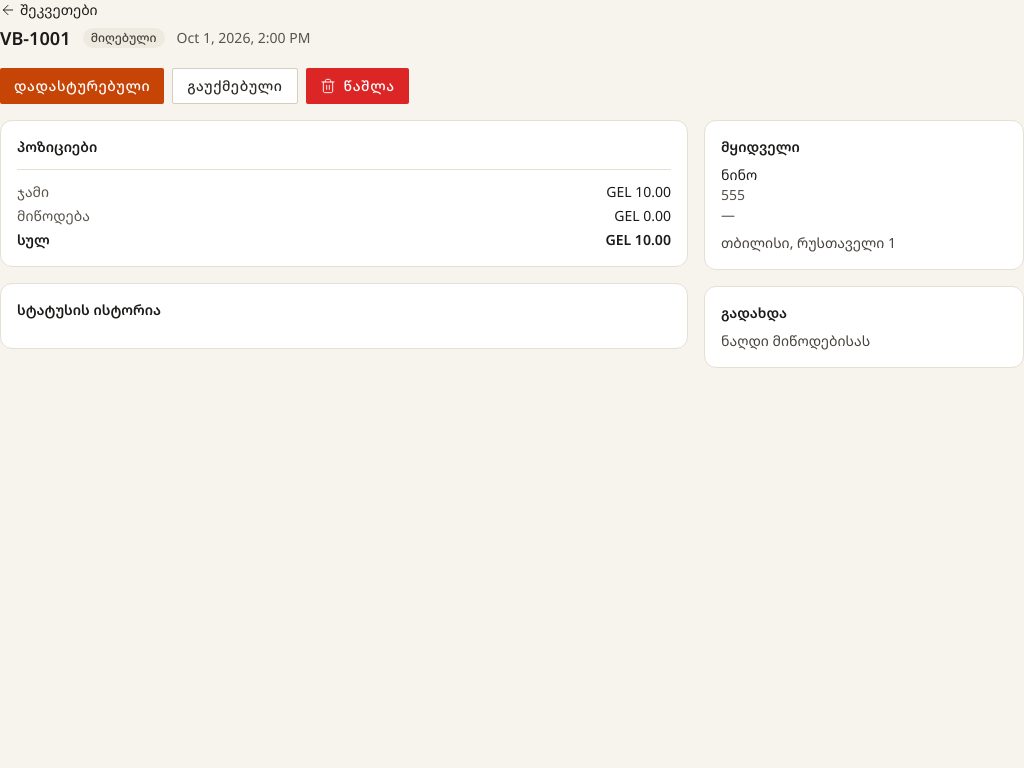
OrderDetail move to trash › warns that the units stay reserved for a pending order
Click the button "წაშლა" at coordinates (357, 86), box [306,68,409,104]
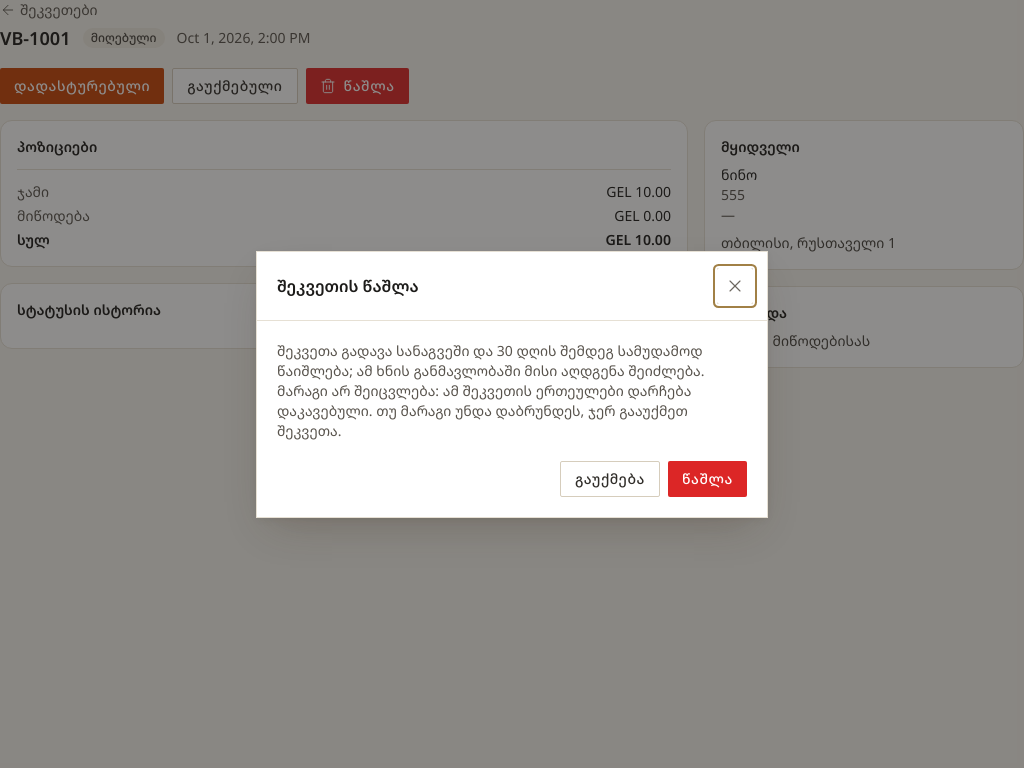
expect the text "ერთეულები დარჩება დაკავებული" is shown: met, box [277,340,705,440]
